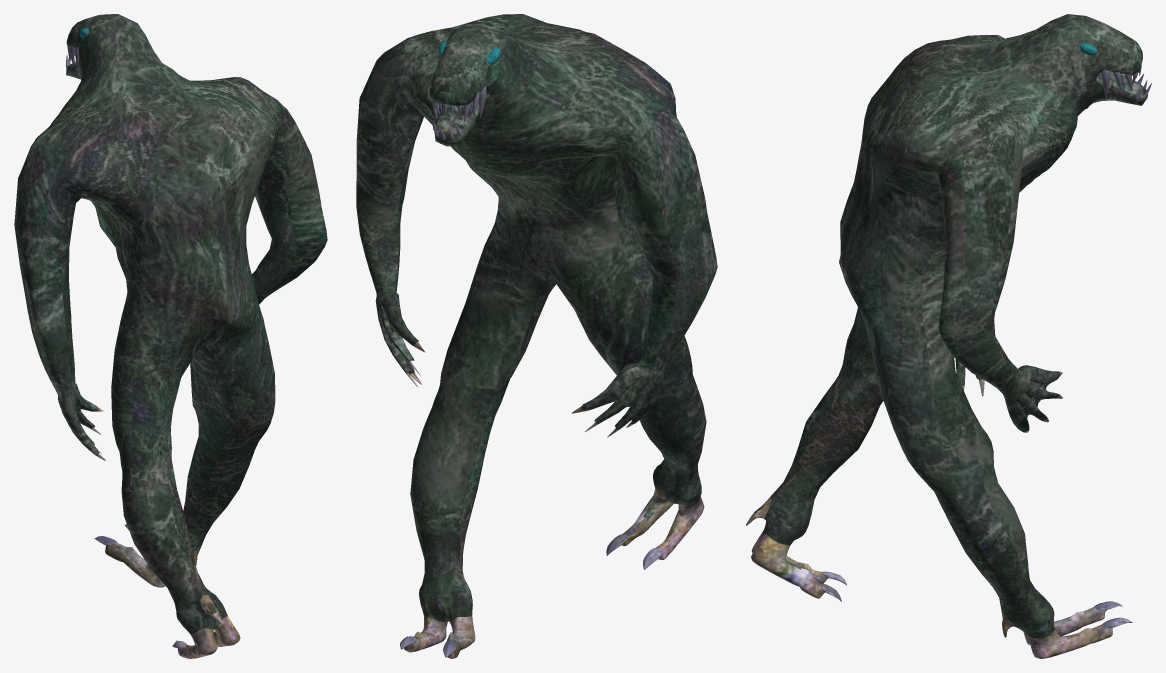
The model's file is Andar.0006.obj.
3 views of the same model, side by side, from view 1: azimuth 30°, elevation 25°; view 2: azimuth 150°, elevation 25°; view 3: azimuth 270°, elevation 25° (orthographic). The views are drawn at different scales.
Parts seen in each view (by area): view 1: polySurface28; view 2: polySurface28; view 3: polySurface28.
Boxes of the visible parts, x1,y1,x2,y2 form: polySurface28: [14, 14, 327, 658]; polySurface28: [356, 14, 717, 658]; polySurface28: [746, 14, 1151, 658].
Bounding box in the file's own units: 1.25 × 2.25 × 1.36.
Materials: 4 (4 with a texture image).
